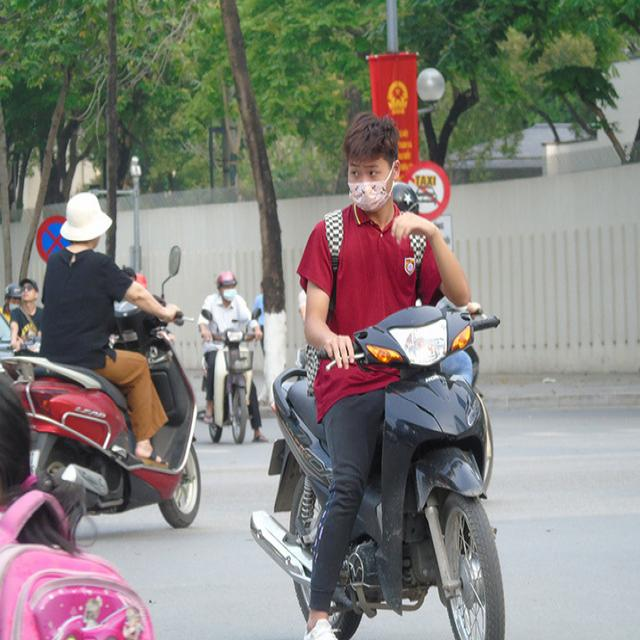no_helmet: (336, 103, 408, 232)
